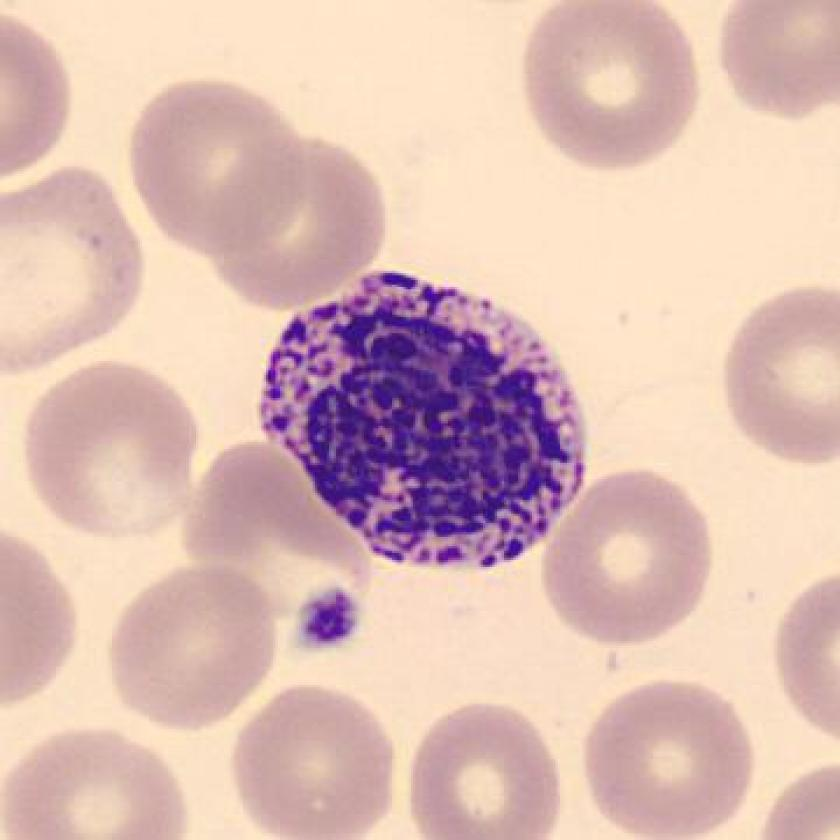basophil: (253, 272, 591, 573)
